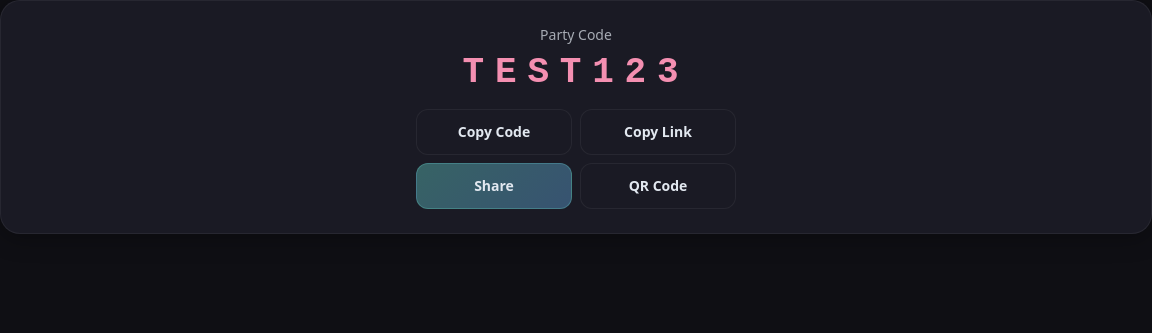
Test: PartyCode Component › Error Handling › handles clipboard writeText rejection on Copy Link
Click the button "Copy Link" at (658, 132), box x1=580 y1=109 x2=736 y2=155
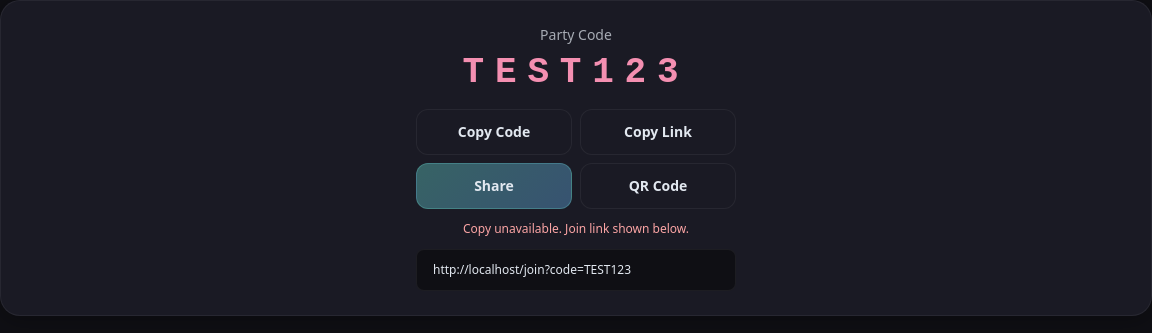
Expected: the text "Copy unavailable. Join link shown below." is shown, x1=463 y1=220 x2=689 y2=237
